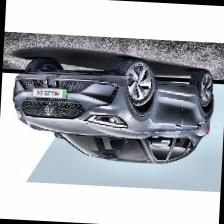EV: (10, 55, 217, 169)
